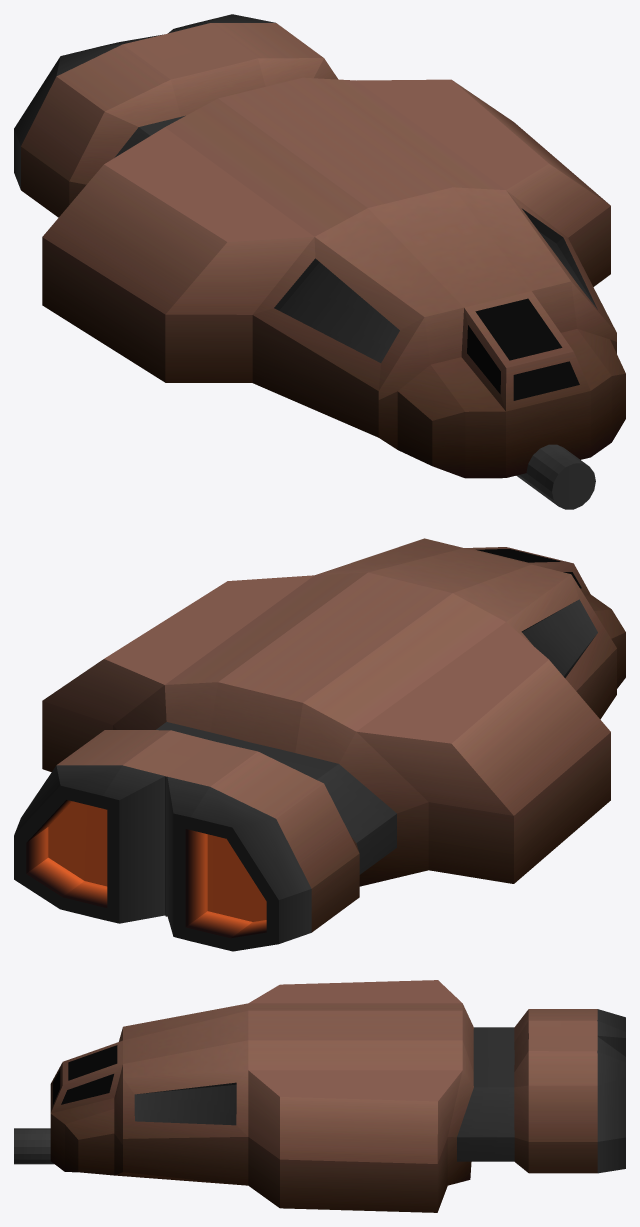
File: interceptor.glb
3 views of the same model, one above another, from view 1: azimuth 30°, elevation 25°; view 2: azimuth 150°, elevation 25°; view 3: azimuth 270°, elevation 25° (orthographic). The views are drawn at different scales.
Visible parts, largest first — view 1: Hull, Gun; view 2: Hull; view 3: Hull, Gun.
Boxes of the visible parts, bbox=[...] form: Hull: bbox=[14, 14, 625, 478]; Gun: bbox=[516, 444, 595, 509]; Hull: bbox=[14, 538, 625, 951]; Hull: bbox=[50, 980, 625, 1212]; Gun: bbox=[14, 1128, 54, 1164].
Size of what is drawn, in the model's own units: 3.63 by 1.41 by 5.69.
Materials: 1 (1 with a texture image).
